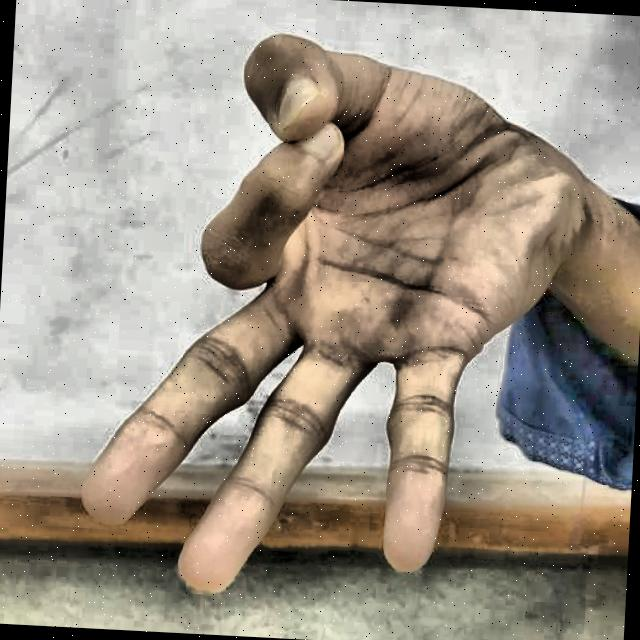Fa: (39, 10, 590, 630)
